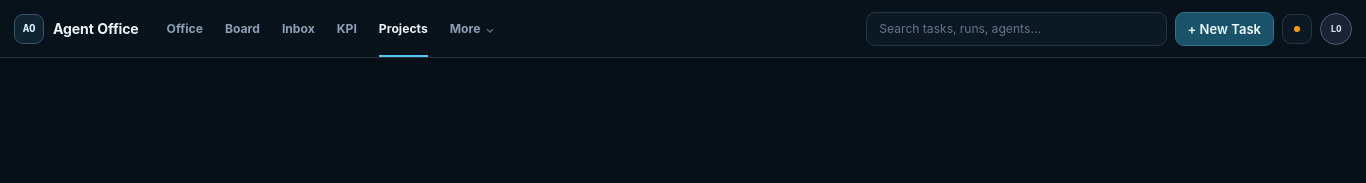
Test: client-only global search › matches canonical tasks, runs, and profiles without inventing entries
Type "cashback" into the search field named "Search tasks, runs, and agents" at (1016, 28), box [866,12,1167,46]
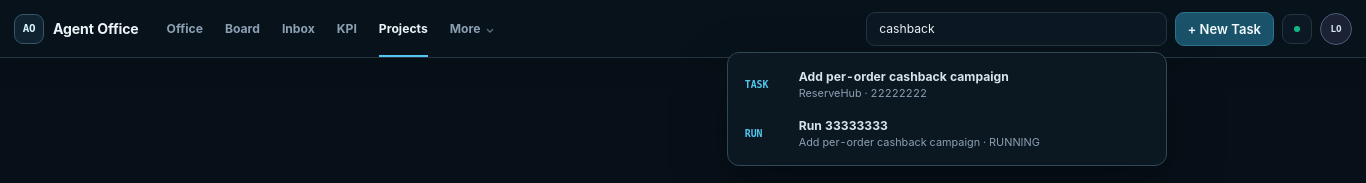
Result: the option "Task Add per-order cashback campaign ReserveHub · 22222222" is shown at [735,60,1159,108]
Result: the option "Run Run 33333333 Add per-order cashback campaign · RUNNING" is shown at [735,108,1159,158]
Replace the text in the search field named "Search tasks, runs, and agents" with "backend" at (1016, 28), box [866,12,1167,46]
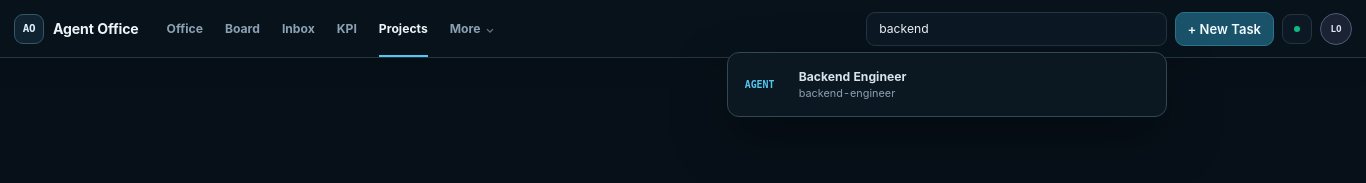
Result: the option "Agent Backend Engineer backend-engineer" is shown at [735,60,1159,108]
